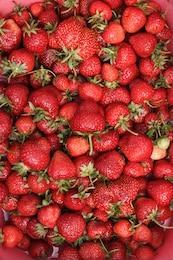Fresa: (68, 97, 109, 141), (28, 83, 67, 122), (17, 135, 52, 173), (45, 148, 80, 185), (92, 147, 126, 182), (53, 210, 87, 245), (2, 80, 32, 117), (20, 24, 52, 58), (103, 97, 134, 131), (126, 29, 158, 60), (133, 193, 162, 227), (33, 201, 61, 233), (145, 177, 173, 208), (96, 19, 128, 46), (120, 4, 148, 34), (126, 77, 156, 104), (8, 47, 36, 75), (1, 221, 25, 252)
